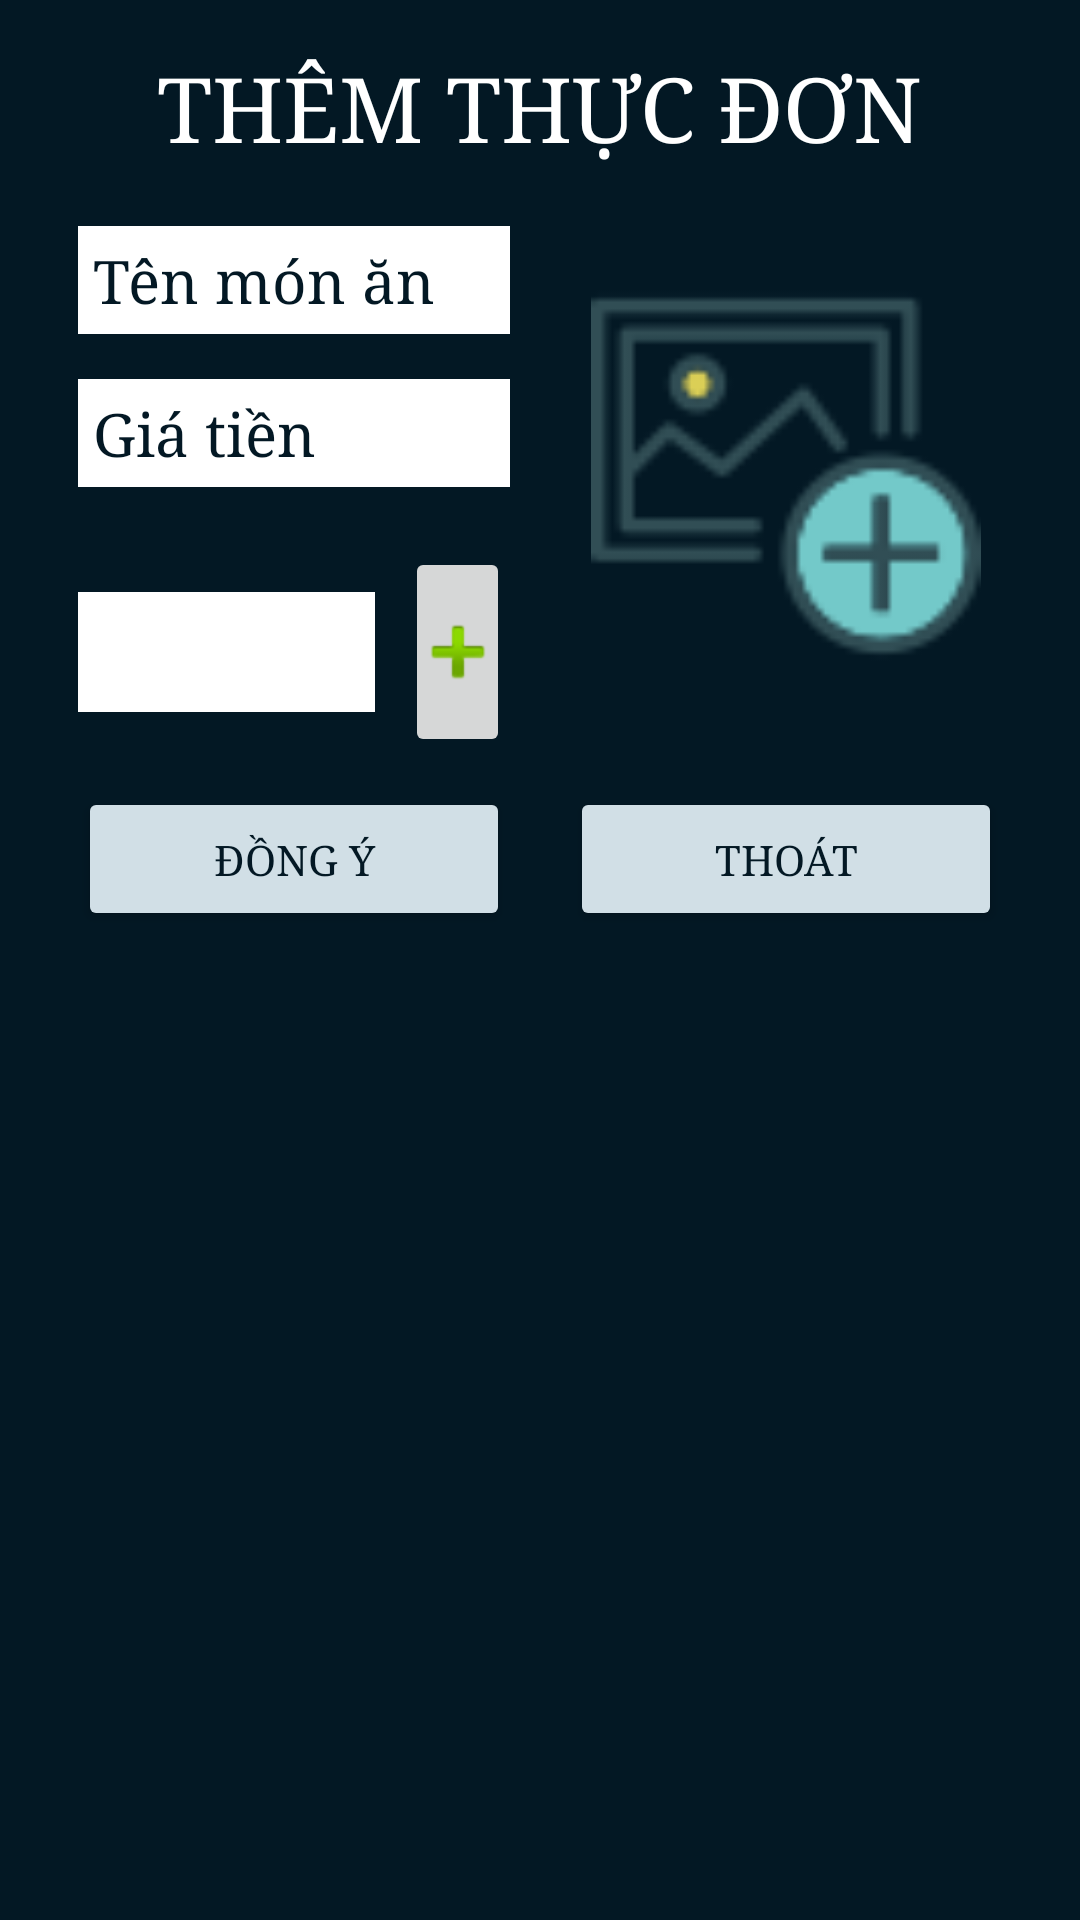

Screen size 1080px×1920px. Icon name, then its center in pixels as (x,y):
add: (457,652)
